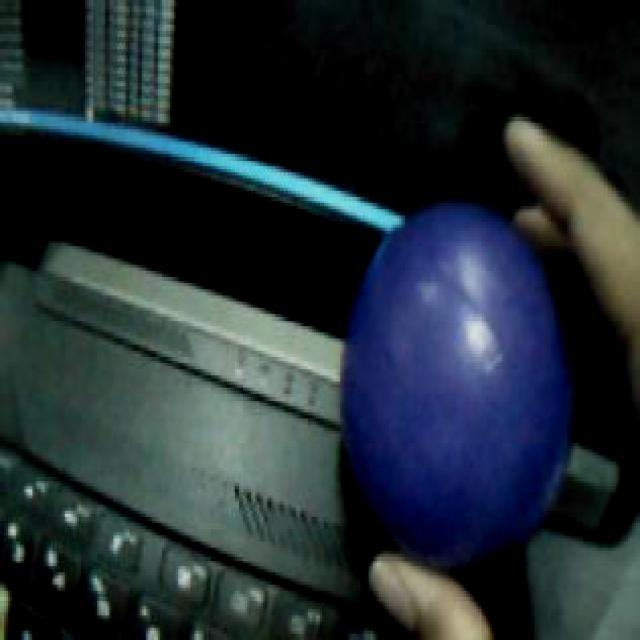BallPurple: (340, 202, 571, 568)
